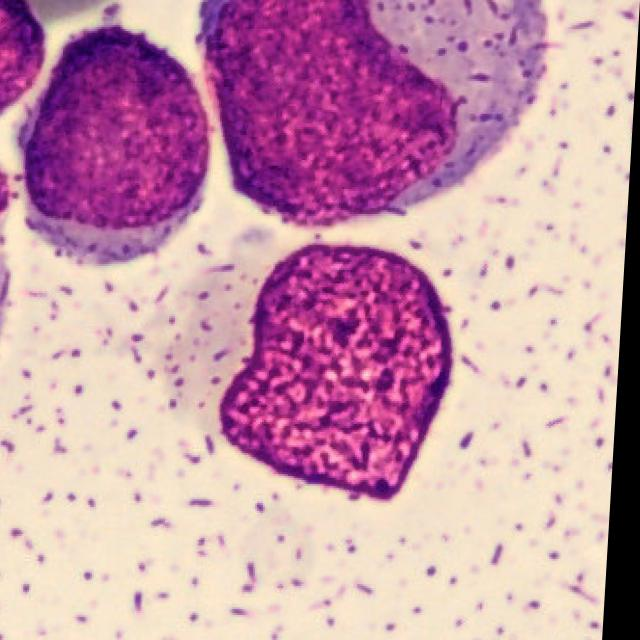Mieloblasto: (196, 0, 548, 227), (27, 21, 213, 264)
Restos celulares: (224, 241, 458, 497)
